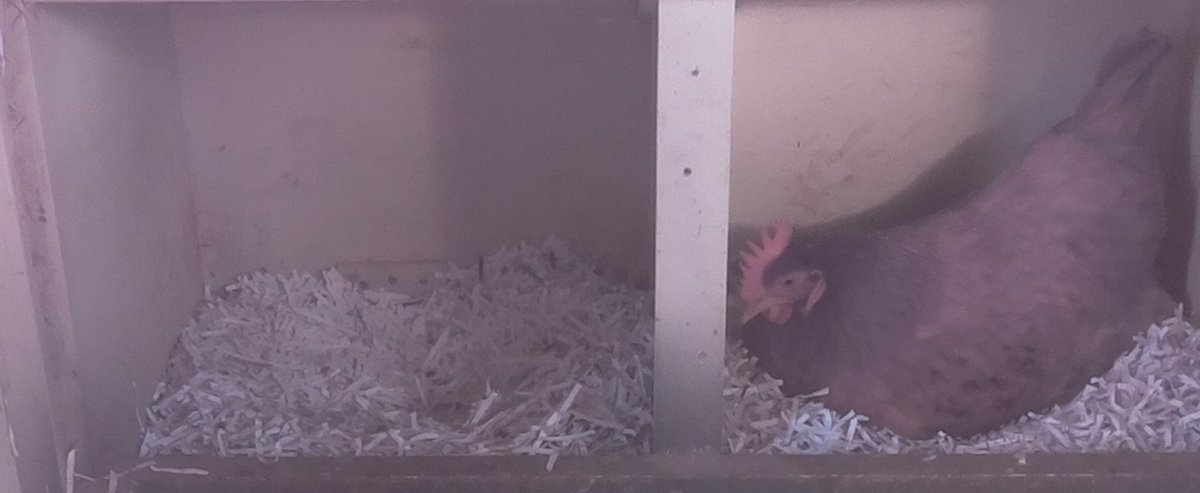hen: (733, 34, 1184, 446)
